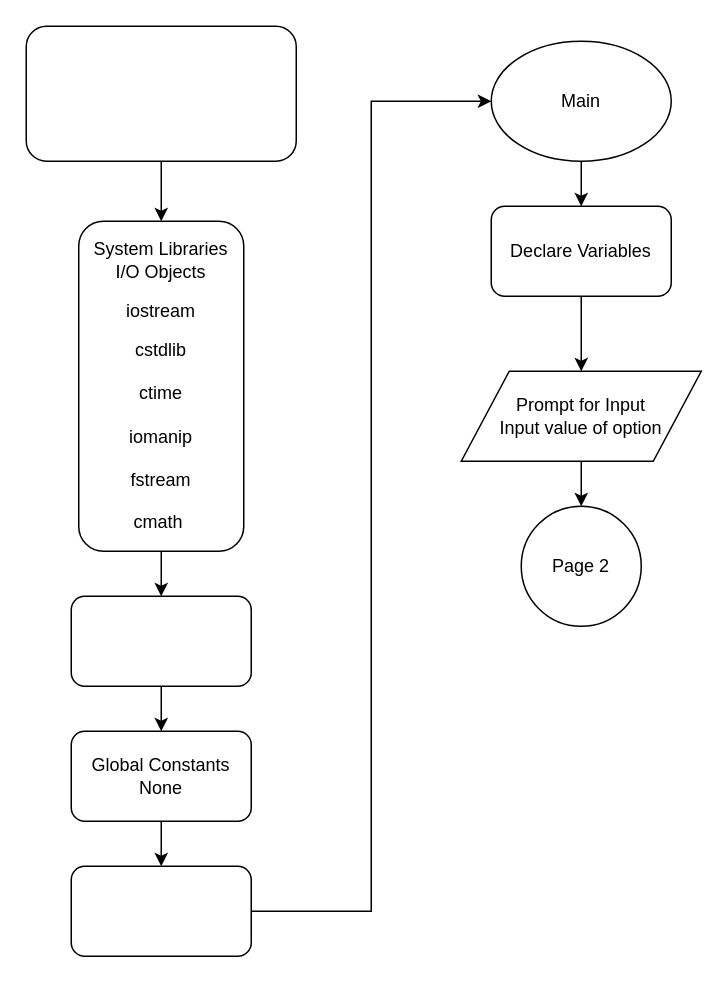
The diagram is 728 pixels wide and 983 high, and some of its shapes have lost their labels. Here are the shapes that lost their labels. From the top down, the centre of each, then its label:
(160,93): Author: Alan Cano Created on July 16; 2020 Purpose: Project 1
(160,640): User Libraries None
(160,910): Function Prototypes
